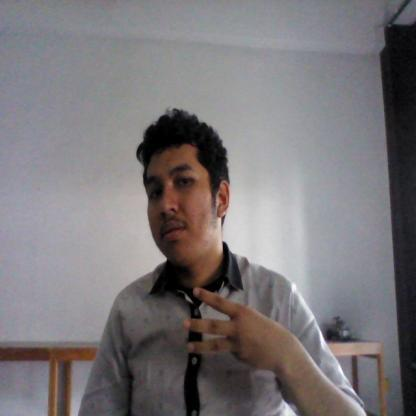E: (178, 284, 291, 376)
